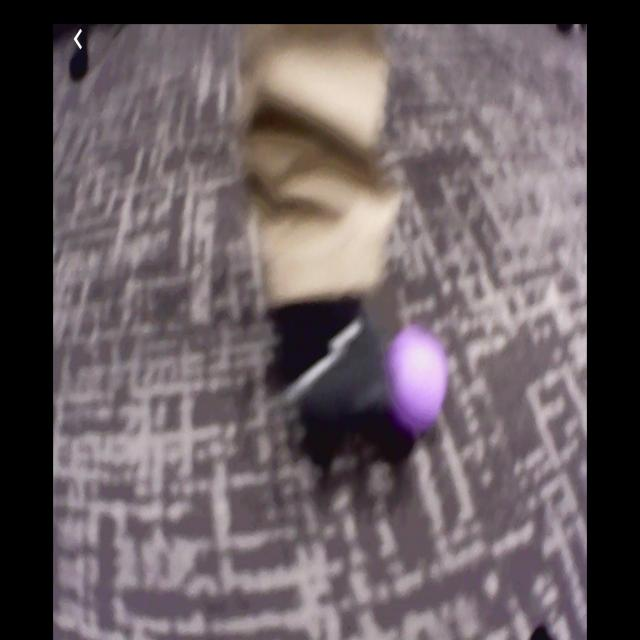ball: (388, 329, 448, 425)
